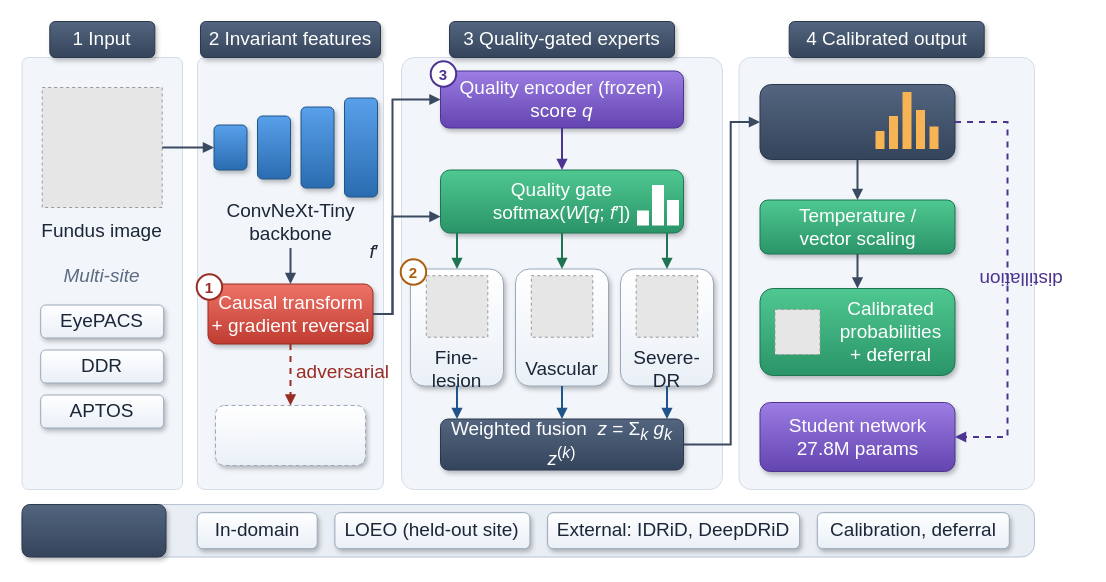
Some shapes in this 1106 by 582 pixel diagram are drawn without their labels. Grey dashed boxes stand in for pictures. The shapes that lost their labels are listed below. From the top down, each one's centre as x and y in pixels, then its label:
[858,123]: Grade logits z
[291,436]: Environment discriminator
[94,532]: Evaluation
